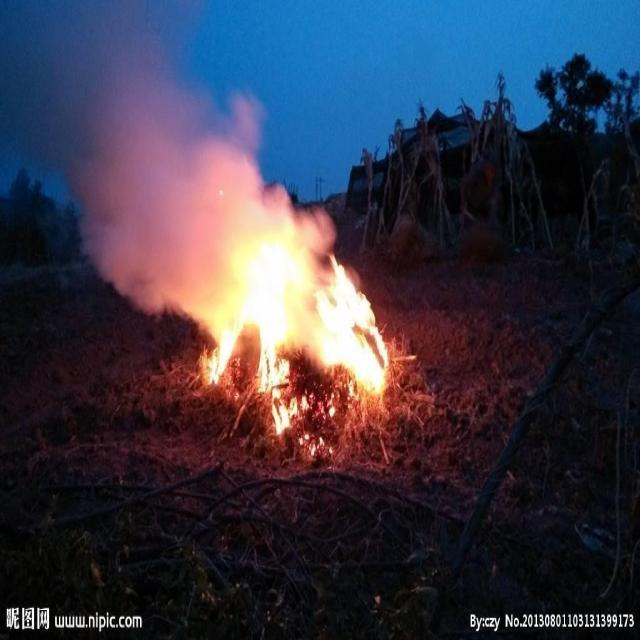Fire: (199, 232, 389, 458)
Smoke: (71, 53, 339, 317)
